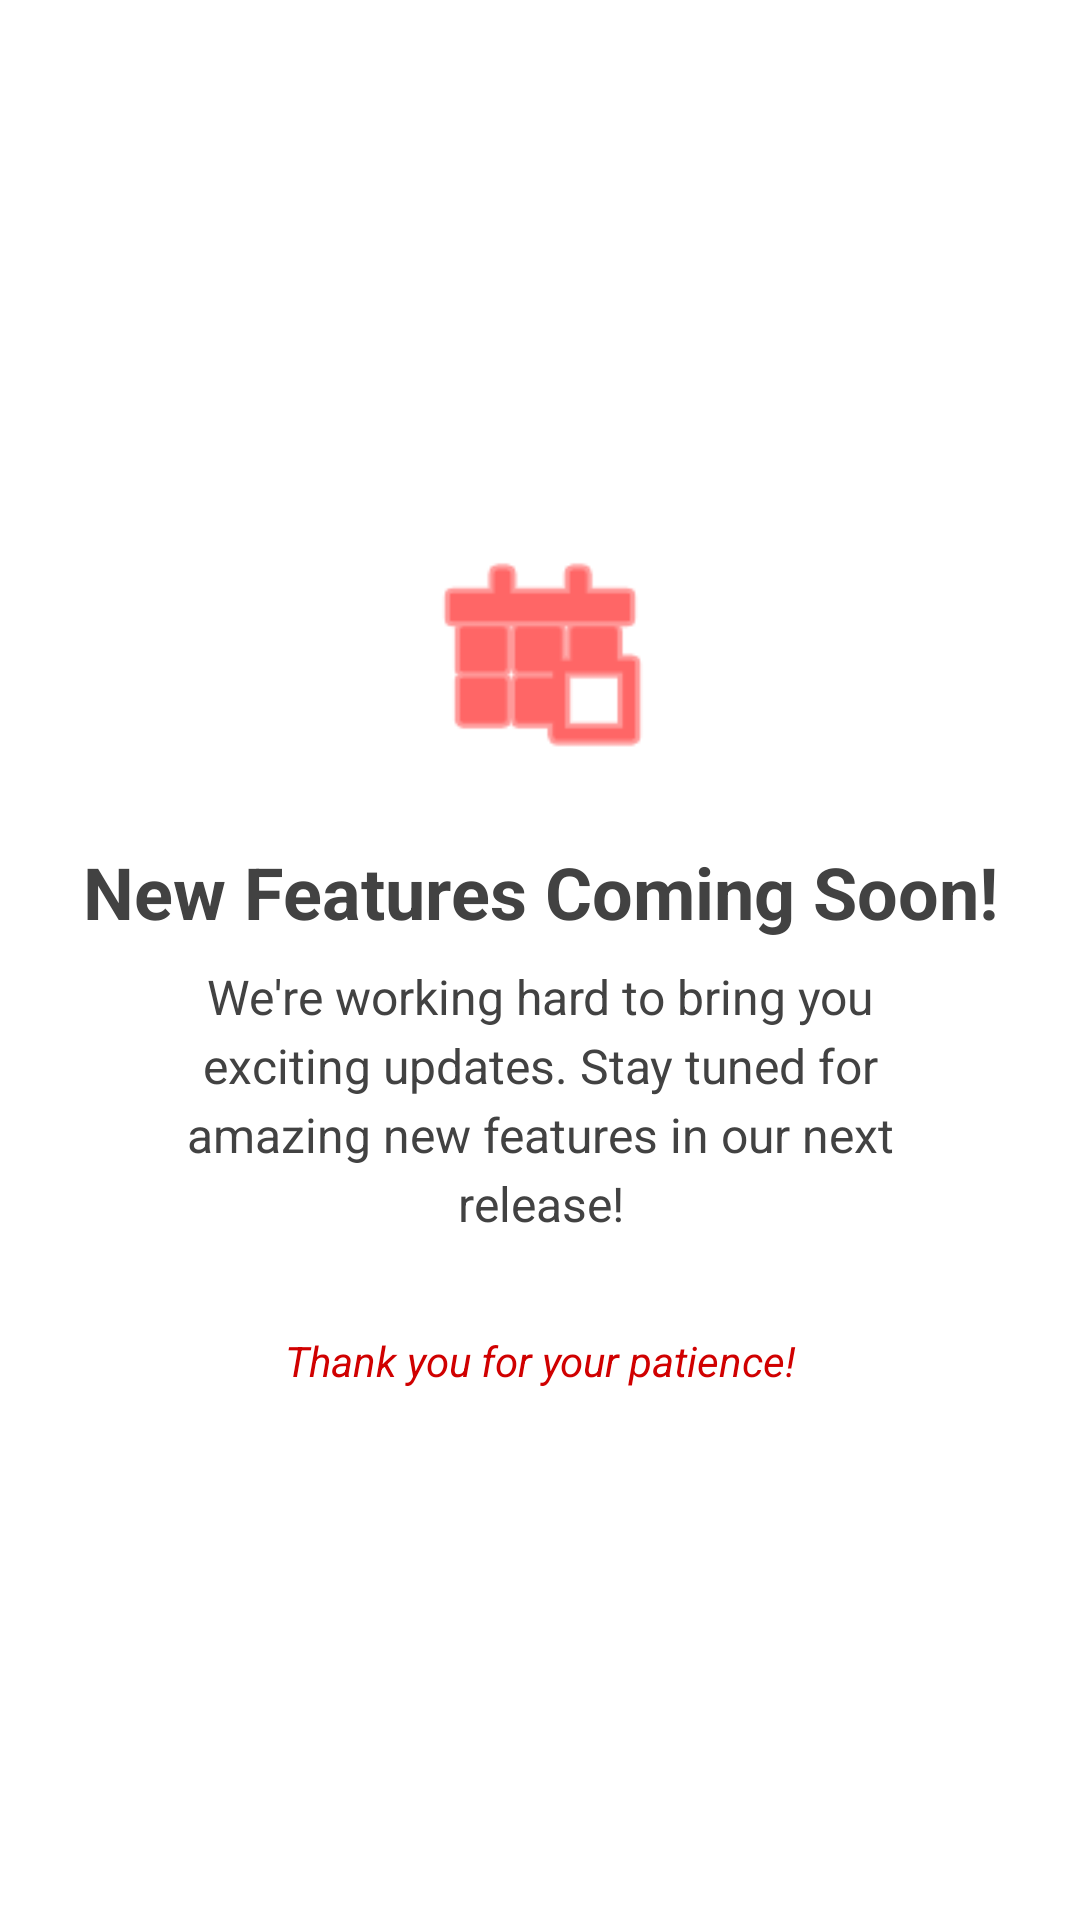

Icon click points for this 1080px×1920px phone screenshot, format (x=x, y=y):
today: (x=542, y=654)
